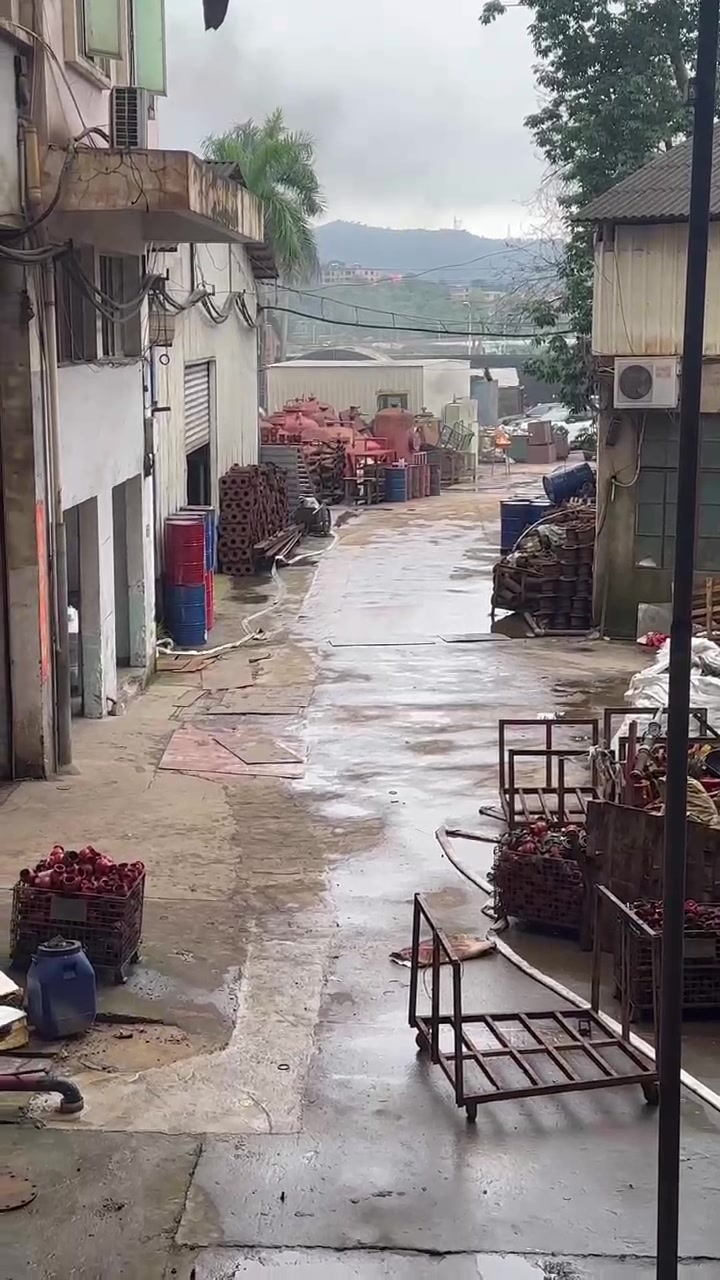fire: (496, 433, 511, 444)
